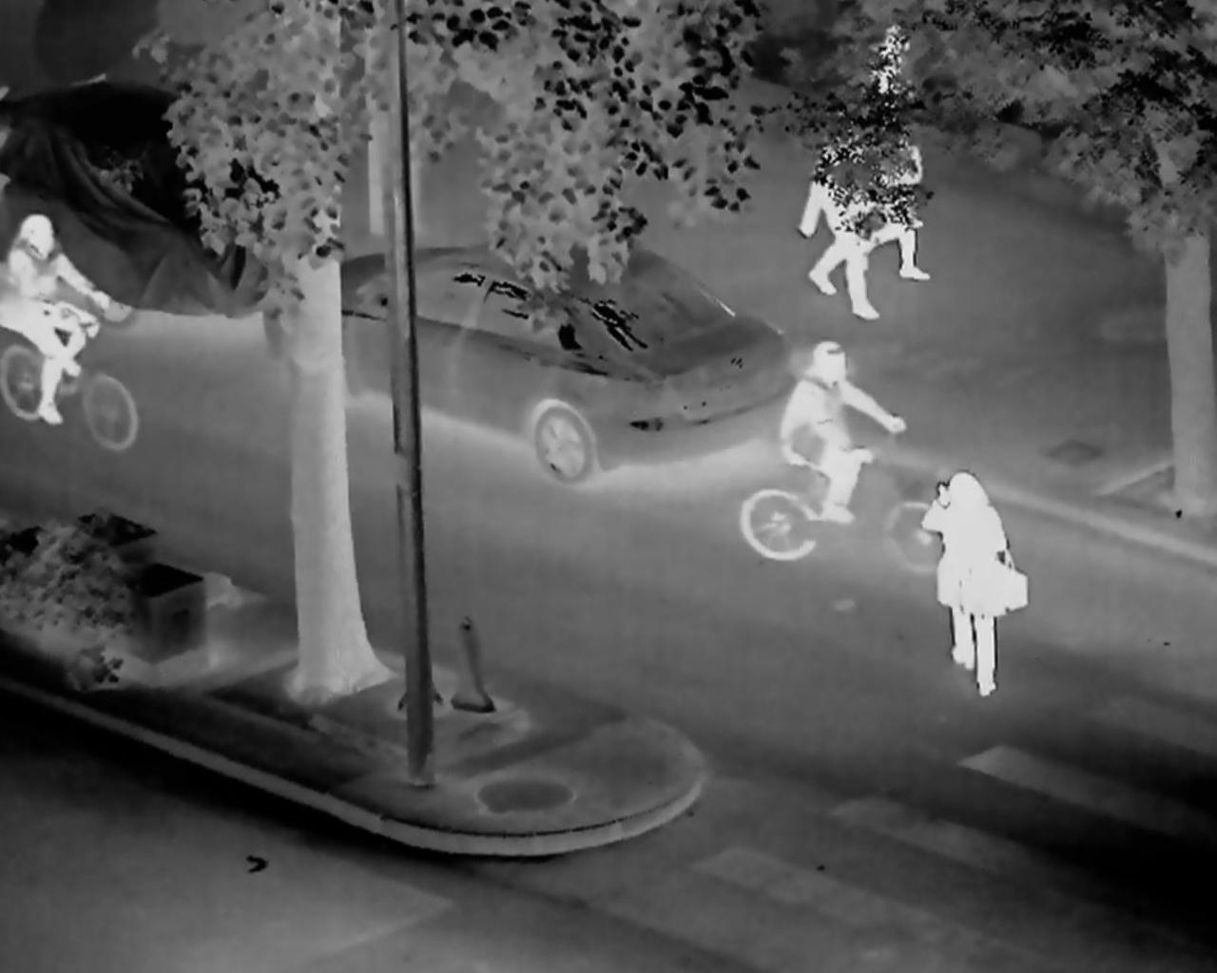person: (921, 467, 1051, 702), (778, 348, 914, 563), (869, 7, 957, 311), (790, 102, 898, 341), (7, 213, 114, 435)
